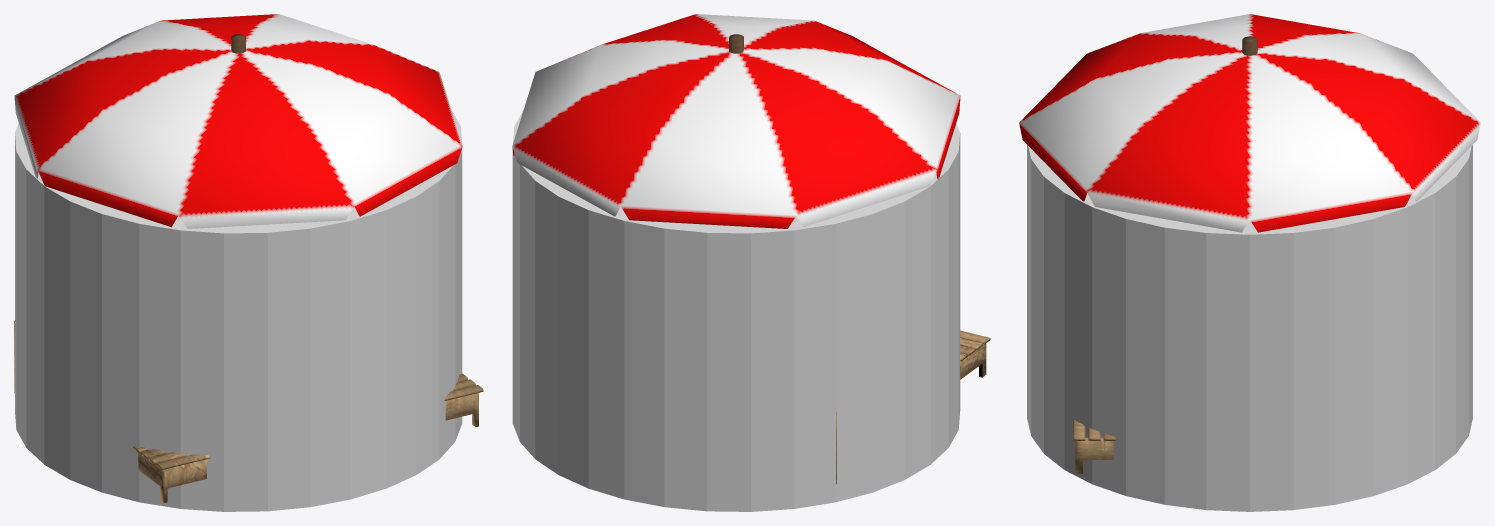
The model's file is enemy2.gltf.
The picture shows the model from 3 angles, left to right: view 1: azimuth 30°, elevation 25°; view 2: azimuth 150°, elevation 25°; view 3: azimuth 270°, elevation 25°; orthographic projection.
Parts seen in each view (by area): view 1: COL1, parasol, chair_04.001, chair_04; view 2: COL1, parasol, chair_04.001; view 3: COL1, parasol, chair_04.
Boxes of the visible parts, box(x1,y1,x2,y2) form: COL1: box(15, 110, 462, 511); parasol: box(14, 14, 462, 228); chair_04.001: box(14, 321, 210, 502); chair_04: box(444, 373, 483, 426); COL1: box(512, 109, 960, 511); parasol: box(512, 14, 960, 228); chair_04.001: box(836, 330, 990, 484); COL1: box(1027, 145, 1472, 511); parasol: box(1019, 14, 1480, 232); chair_04: box(1073, 420, 1115, 473).
Bounding box in the file's own units: 3.02 × 2.74 × 3.02.
Materials: 4 (4 with a texture image).
